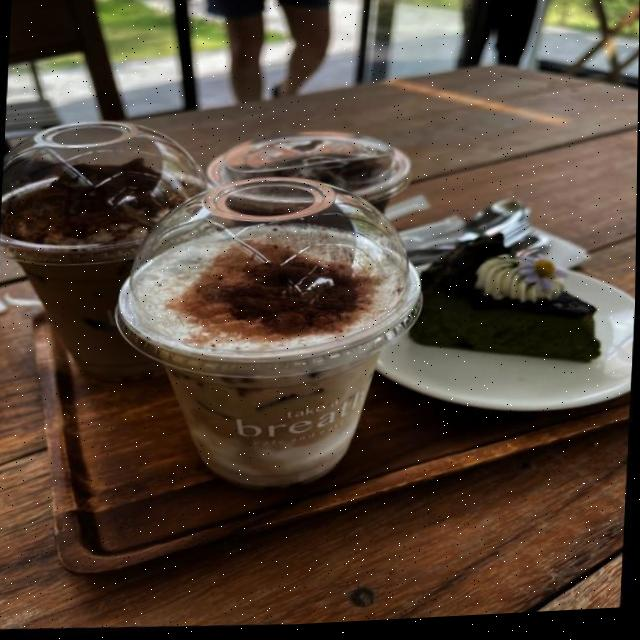cup: (116, 169, 445, 521), (0, 98, 229, 414)
